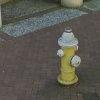Hydrant: (50, 18, 89, 92)
